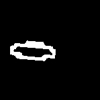chain: (10, 41, 54, 60)
